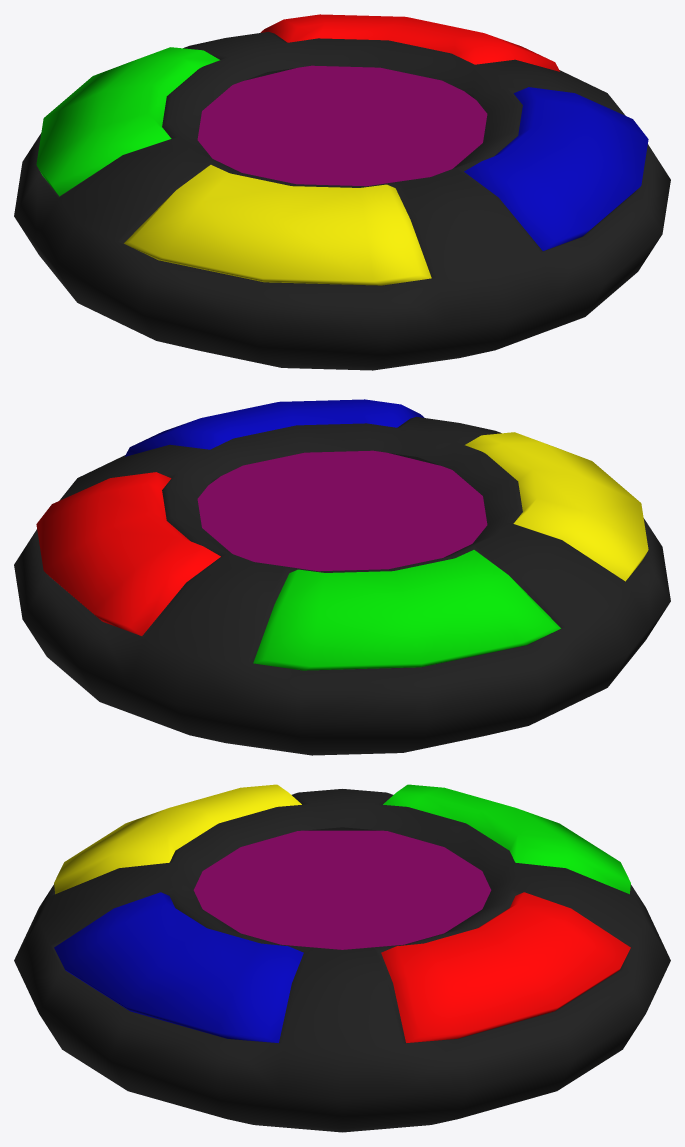
File: SimonX.FBX
3 views of the same model, one above another, from view 1: azimuth 30°, elevation 25°; view 2: azimuth 150°, elevation 25°; view 3: azimuth 270°, elevation 25° (orthographic).
Visible parts, largest first — view 1: SimonXBody, SimonXScreen; view 2: SimonXBody, SimonXScreen; view 3: SimonXBody, SimonXScreen.
Boxes of the visible parts, <box> form: SimonXBody: <box>14,14,670,370</box>; SimonXScreen: <box>197,65,487,186</box>; SimonXBody: <box>14,399,670,755</box>; SimonXScreen: <box>197,450,487,571</box>; SimonXBody: <box>14,784,670,1132</box>; SimonXScreen: <box>193,830,491,949</box>.
Size of the model in its own units: 26 by 8.54 by 26.
